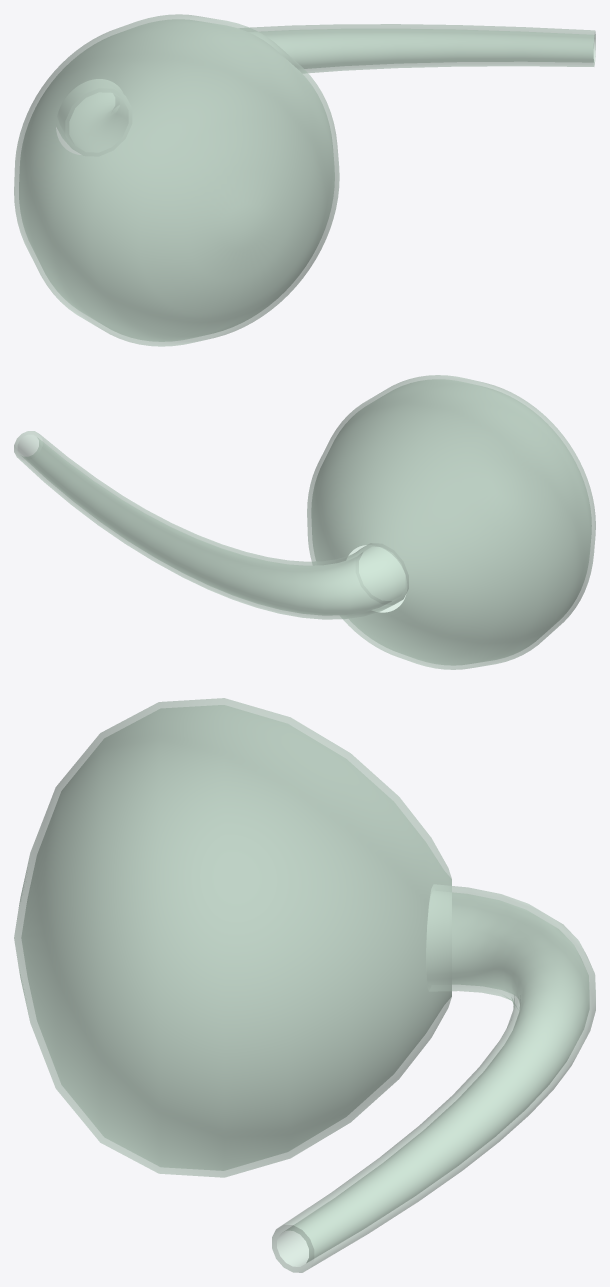
File: retort.glb
The picture shows the model from 3 angles, top to bottom: view 1: azimuth 30°, elevation 25°; view 2: azimuth 150°, elevation 25°; view 3: azimuth 270°, elevation 25°; orthographic projection. The views are drawn at different scales.
Visible parts, largest first — view 1: bulb, neck; view 2: bulb, neck; view 3: bulb, neck.
Boxes of the visible parts, x1,y1,x2,y2 form: bulb: (14,14,339,346); neck: (56,24,595,156); bulb: (307,375,595,669); neck: (14,431,408,619); bulb: (14,698,451,1177); neck: (272,884,595,1272).
Size of the model in its own units: 0.2153 by 0.1044 by 0.1266.
